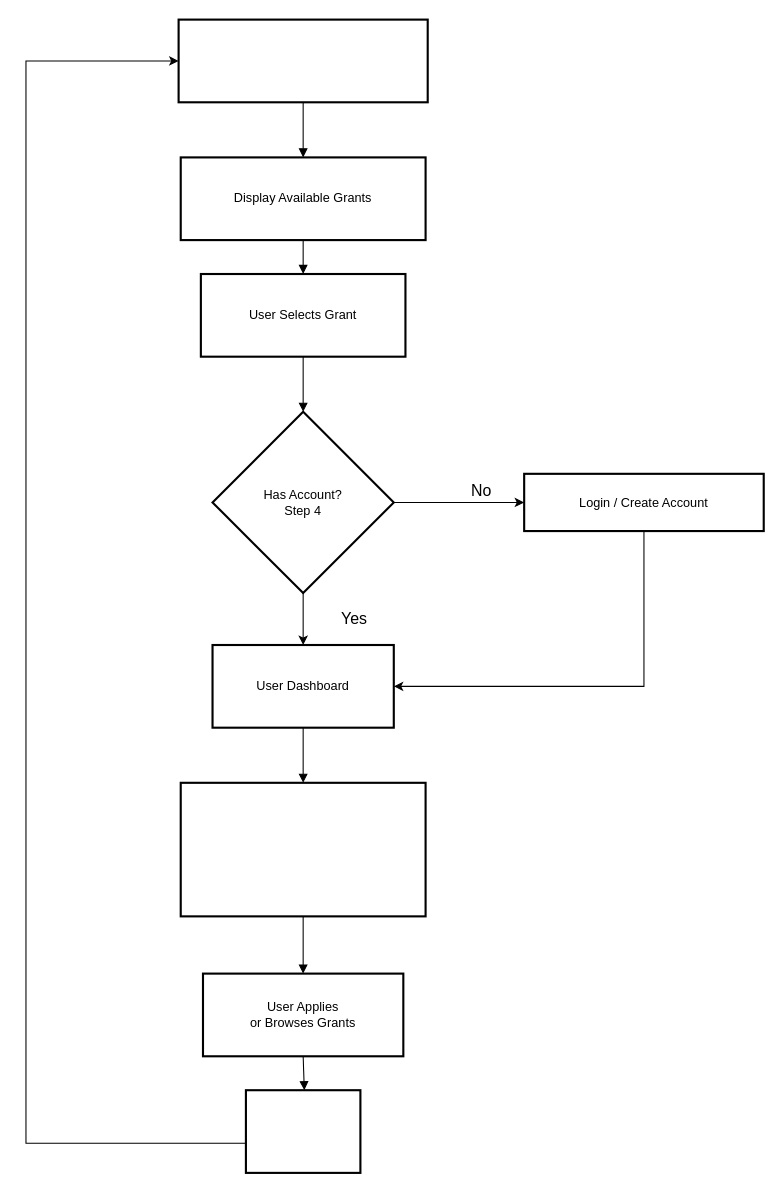
Some shapes in this 783 by 1191 pixel diagram are drawn without their labels. Each missing label, with the centre of its shape:
Display Available Grants Filtered by Date Application Stats # Applied: (302,849)
Landing Page: (302,60)
Logout Step 6: (302,1131)
